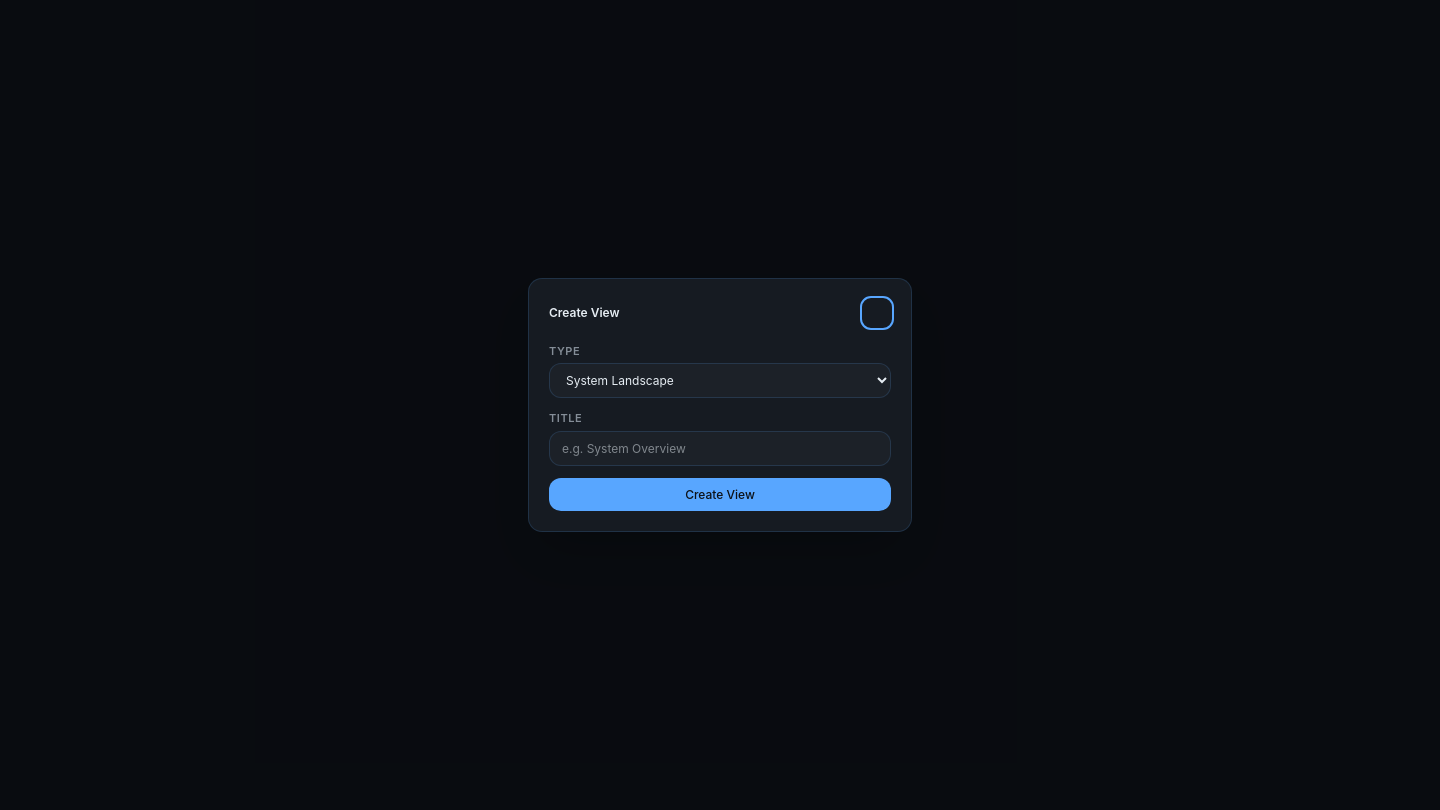
CreateViewDialog — zero-systems guard › disables Create View for a Component view when no containers exist
Select "Component" in the dropdown labelled "Type" at {"x": 720, "y": 381}, box [549,363,891,398]
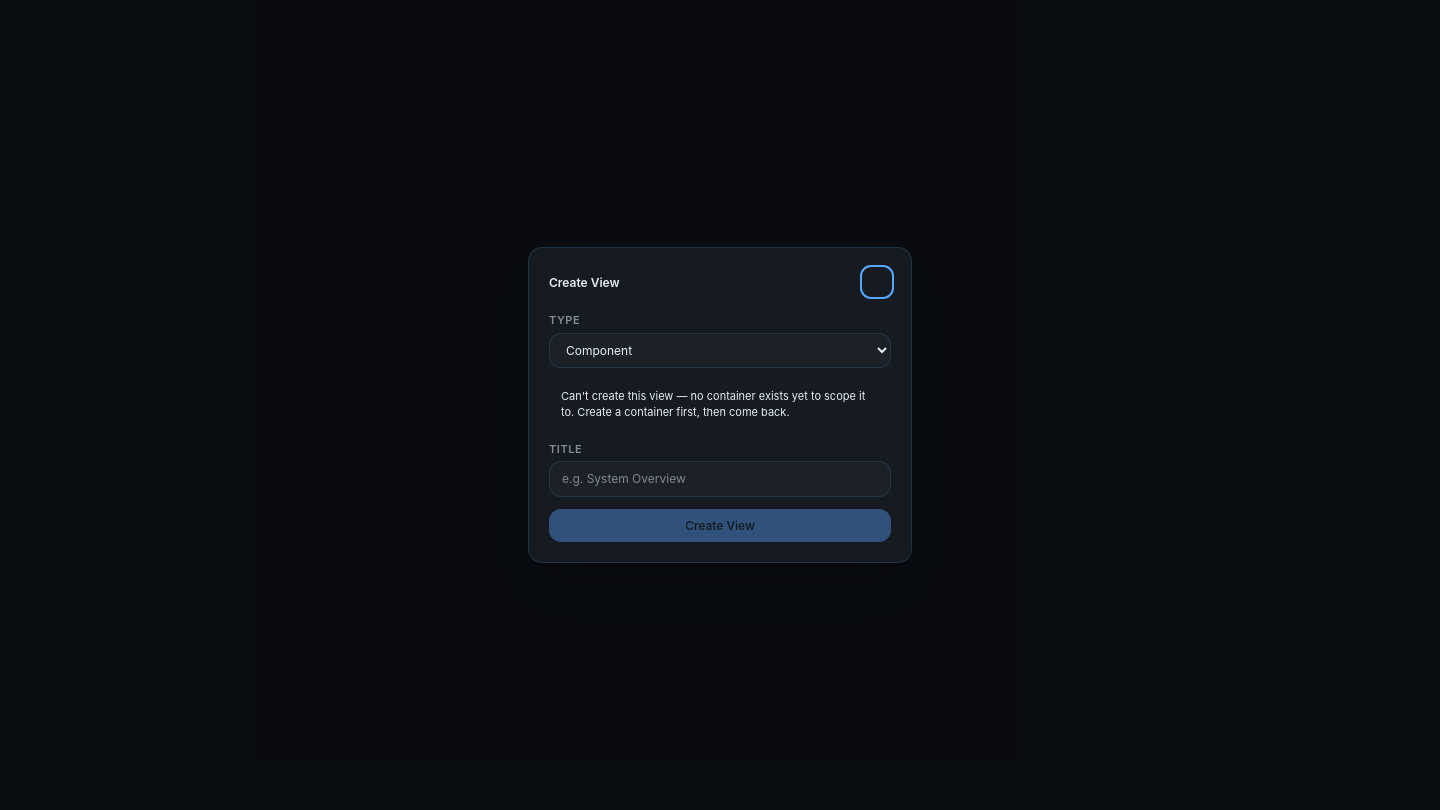
Expected: the button "Create View" is disabled, [549,508,891,542]
Expected: the message shows "no container exists yet", [549,380,891,429]
